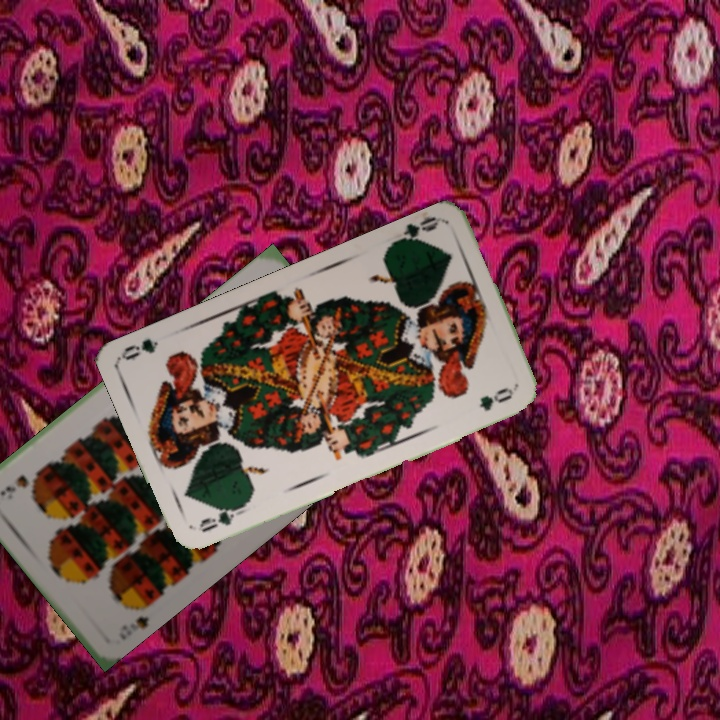GO: (387, 212, 442, 249), (195, 499, 249, 535)
S9: (125, 597, 156, 634)
